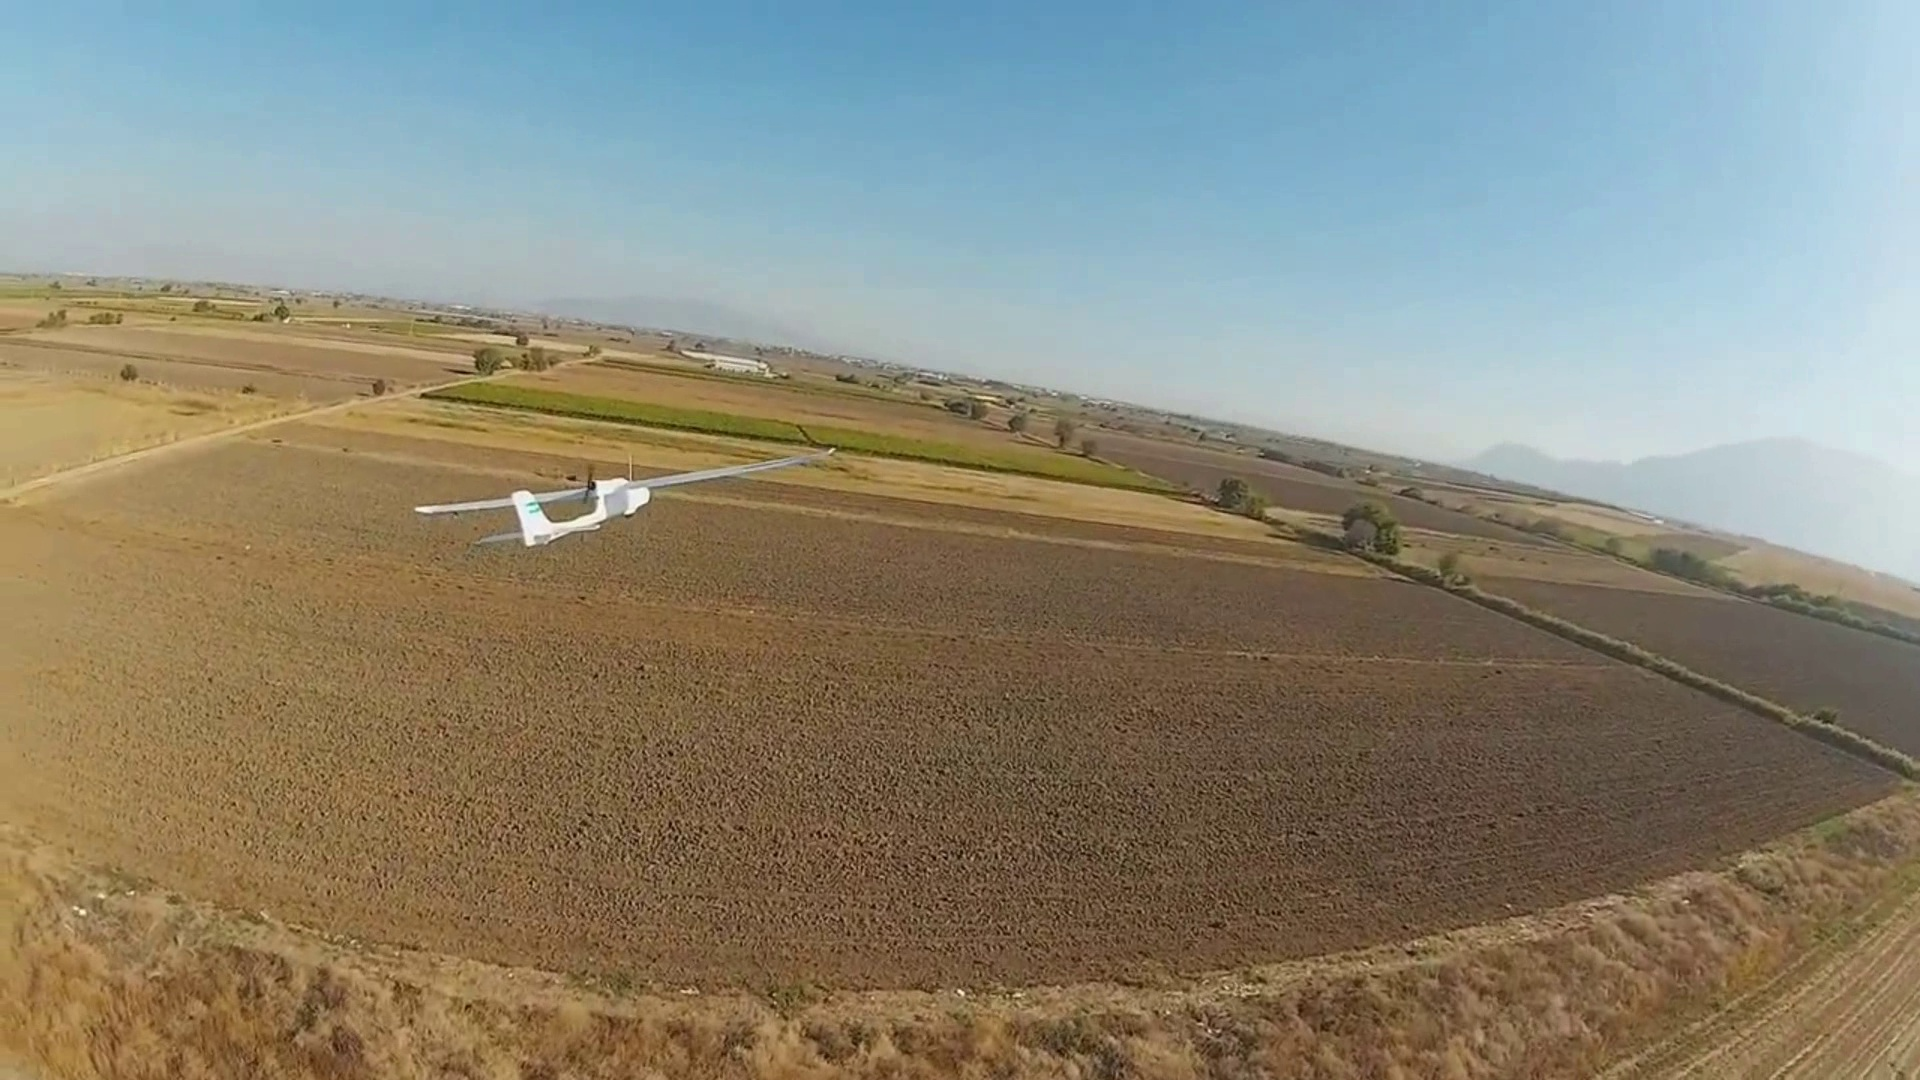airplane: (411, 464, 833, 549)
